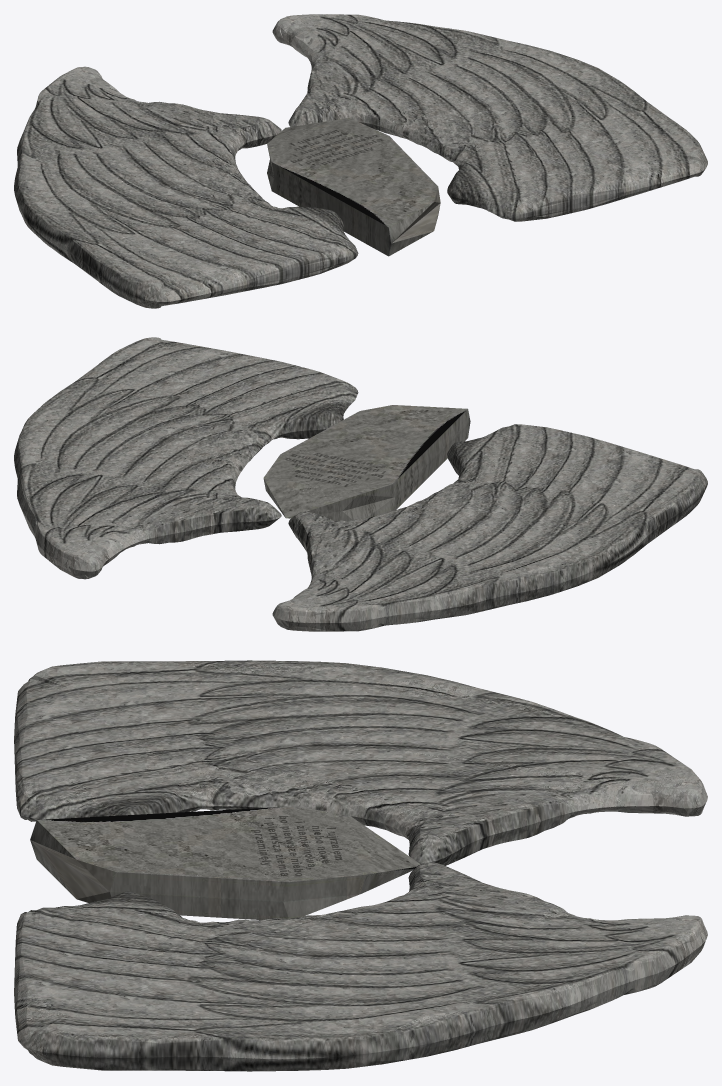
Rendered from ZonaMemorial_LOD1.FBX.
The picture shows the model from 3 angles, top to bottom: view 1: azimuth 30°, elevation 25°; view 2: azimuth 150°, elevation 25°; view 3: azimuth 270°, elevation 25°; orthographic projection. The views are drawn at different scales.
Visible parts, largest first — view 1: LeftWingFront001, StoneFront001; view 2: LeftWingFront001, StoneFront001; view 3: LeftWingFront001, StoneFront001.
Part boxes in pixels (<box>): LeftWingFront001: <box>14,14,707,308</box>; StoneFront001: <box>267,118,440,256</box>; LeftWingFront001: <box>14,337,707,631</box>; StoneFront001: <box>263,405,470,521</box>; LeftWingFront001: <box>14,660,707,1071</box>; StoneFront001: <box>30,806,420,919</box>.
Size of the model in its own units: 296 by 14.12 by 224.
Materials: 3 (3 with a texture image).
